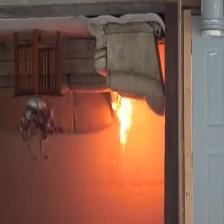fire: (109, 101, 141, 151)
